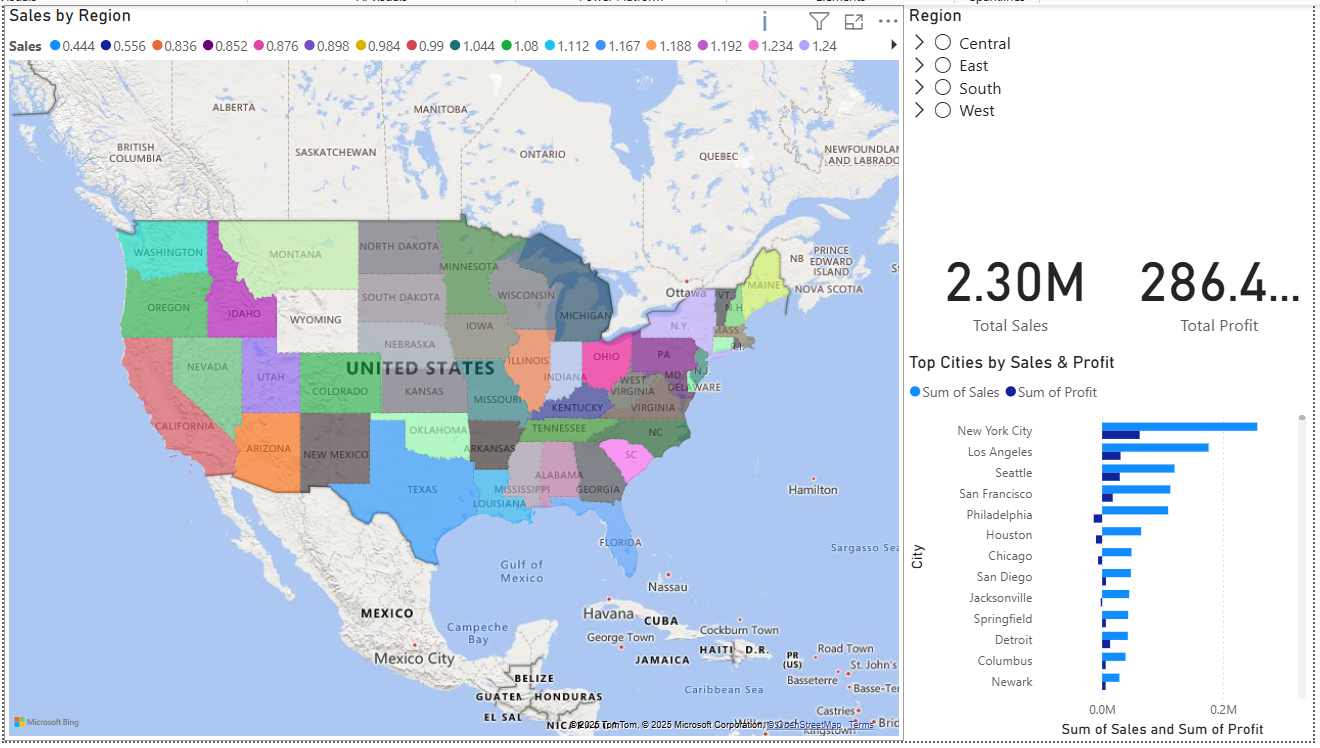

What the dashboard file says about the page in this screenshot:
{"tool":"powerbi","page":{"name":"Geographic Insights","canvas":[1280,720],"ordinal":2},"visuals":[{"type":"listSlicer","fields":{"Values":["superstore_clean.Region","superstore_clean.Category","superstore_clean.Order Date.Variation.Date Hierarchy.Year","superstore_clean.Order Date.Variation.Date Hierarchy.Quarter","superstore_clean.Order Date.Variation.Date Hierarchy.Month","superstore_clean.Order Date.Variation.Date Hierarchy.Day"]},"box":[881,0,398.7,210],"z":0},{"type":"filledMap","title":"Sales by Region","fields":{"Category":["superstore_clean.State"],"Series":["superstore_clean.Sales"]},"box":[0,0,881,720.8],"z":1},{"type":"card","fields":{"Values":["Sum(superstore_clean.Profit)"]},"box":[1099.3,210.3,179.8,128.4],"z":2},{"type":"card","fields":{"Values":["Sum(superstore_clean.Sales)"]},"box":[880.4,210.3,217.7,128.4],"z":3},{"type":"clusteredBarChart","title":"Top Cities by Sales & Profit","fields":{"Category":["superstore_clean.City"],"Y":["Sum(superstore_clean.Sales)","Sum(superstore_clean.Profit)"]},"box":[881,338.2,398.7,382.7],"z":4}]}

Visuals, with their boxes on the page's 1280x720 design canvas (x1, y1, x2, y2). These are canvas units, not pixel positions in the 1320x748 screenshot, which may show the page scaled, cropped or inside an application window:
listSlicer - superstore_clean.Region x superstore_clean.Category: detection(881, 0, 1280, 210)
"Sales by Region" filledMap: detection(0, 0, 881, 721)
card - Sum(superstore_clean.Profit): detection(1099, 210, 1279, 339)
card - Sum(superstore_clean.Sales): detection(880, 210, 1098, 339)
"Top Cities by Sales & Profit" clusteredBarChart: detection(881, 338, 1280, 721)
